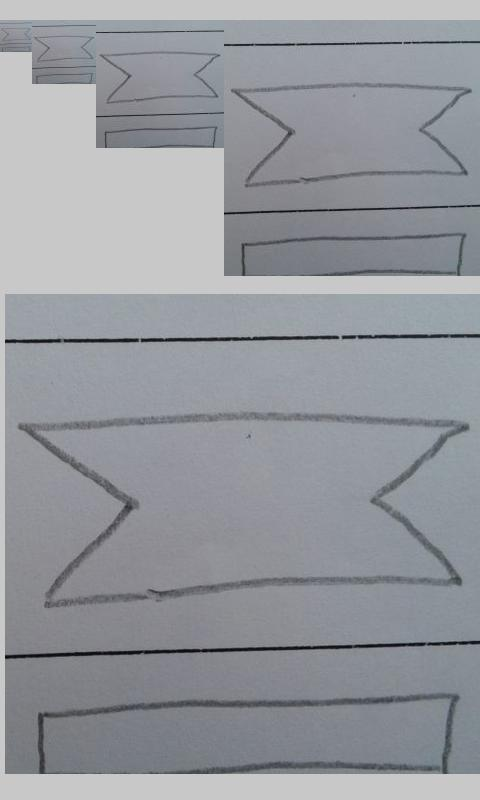edit_text: (19, 413, 467, 608), (232, 82, 471, 188), (99, 51, 219, 103), (35, 35, 94, 63), (1, 27, 31, 41)
